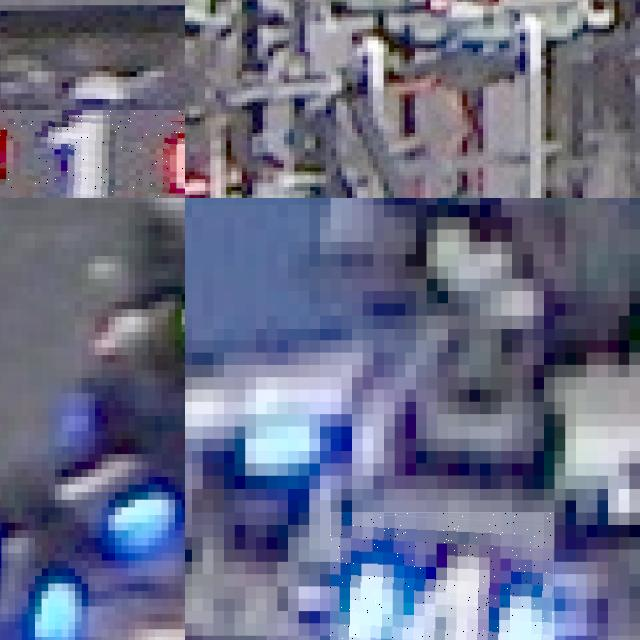B1: (12, 420, 178, 549), (0, 511, 95, 640)
B4: (330, 512, 554, 640)
R1: (0, 109, 185, 198)
